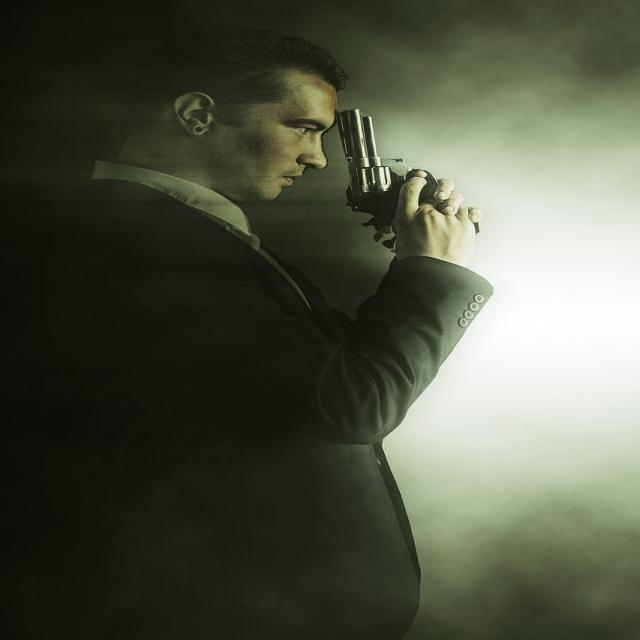Gun: (338, 109, 406, 241), (421, 174, 438, 201)
